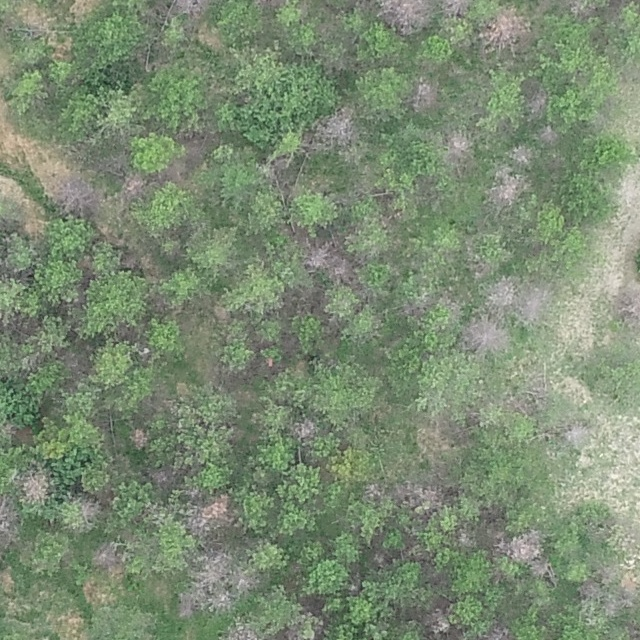unhealthy: (479, 7, 532, 48), (311, 105, 359, 146), (50, 176, 101, 214), (187, 492, 232, 532), (380, 0, 434, 32), (463, 316, 511, 352), (485, 169, 526, 207), (516, 280, 551, 323), (195, 549, 232, 587), (393, 482, 446, 508), (485, 275, 519, 309), (506, 529, 541, 562), (20, 468, 52, 504), (92, 541, 127, 573), (443, 128, 472, 164), (0, 491, 18, 548), (409, 78, 439, 112), (616, 285, 639, 329), (502, 391, 538, 416), (301, 243, 330, 271), (175, 586, 200, 618), (328, 255, 355, 284), (561, 422, 590, 448), (122, 172, 148, 199), (289, 417, 318, 441), (147, 466, 177, 489), (173, 0, 211, 18), (207, 586, 232, 613), (424, 607, 450, 632), (525, 88, 549, 115), (223, 623, 261, 640), (233, 568, 259, 592), (509, 142, 535, 165), (565, 0, 598, 18), (441, 0, 471, 18), (483, 624, 515, 640), (536, 125, 559, 147), (577, 579, 601, 600), (129, 426, 150, 450), (529, 560, 554, 580), (80, 499, 100, 520), (364, 482, 384, 501), (252, 0, 287, 10)
